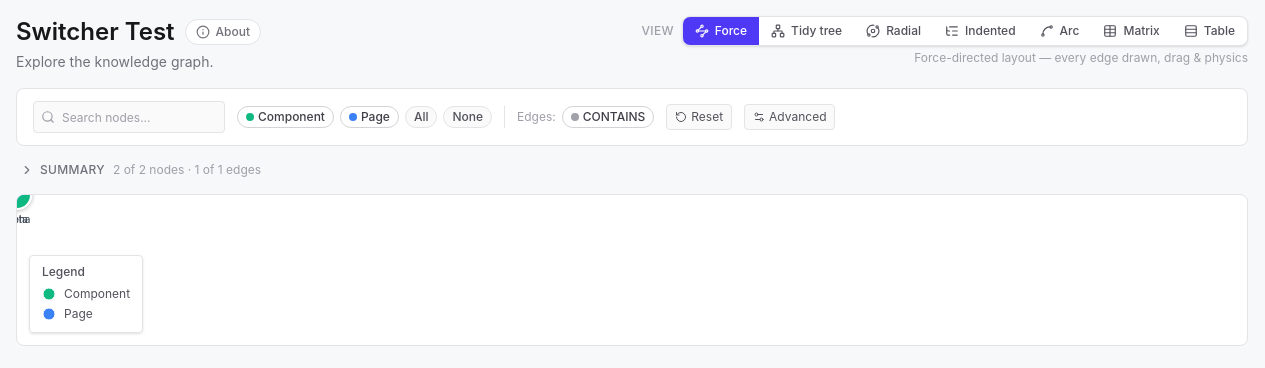
it: Viewer view switching › selecting a node in the table opens the detail panel
Click the button "Table" at (1209, 31), box x1=1172 y1=17 x2=1247 y2=45
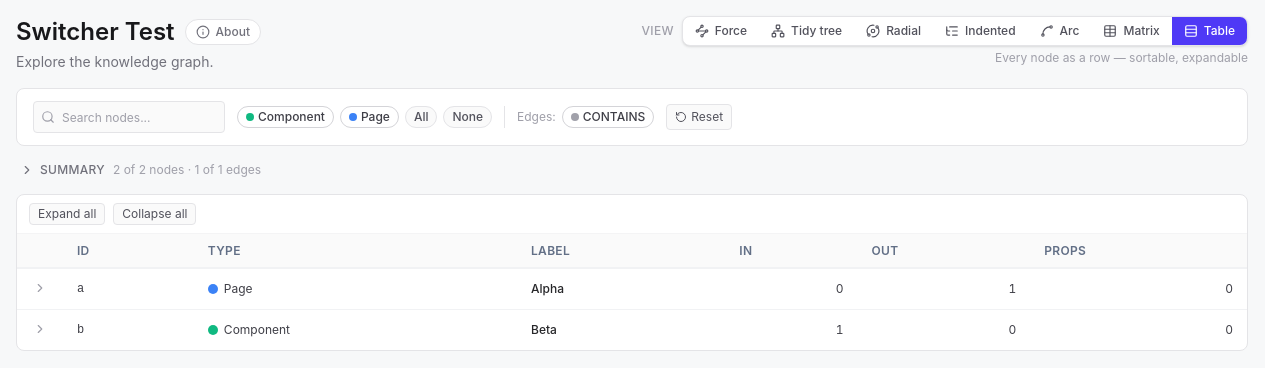
Click the row with test id "table-row-b" at (257, 329), box x1=17 y1=310 x2=1247 y2=350
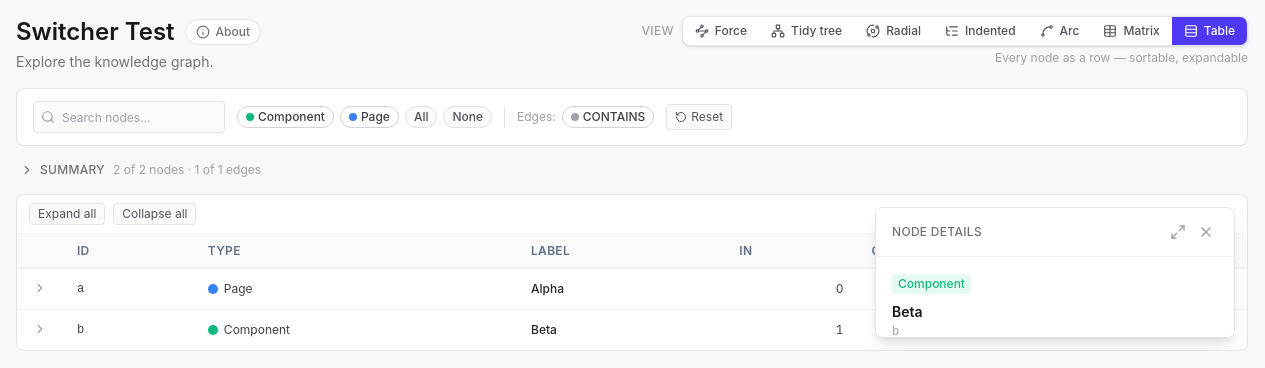
Expected: the element with test id "graph-detail-panel" is shown, x1=875 y1=207 x2=1235 y2=338
